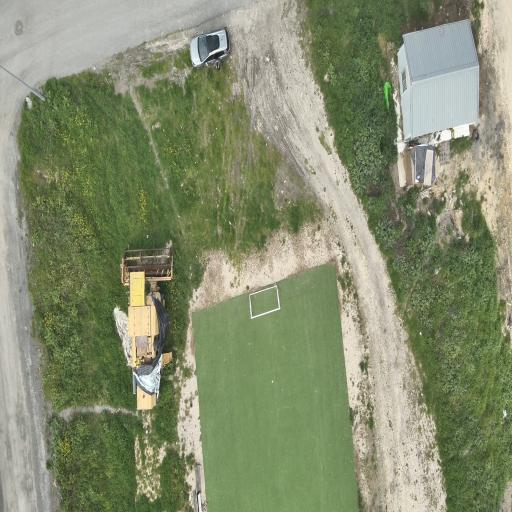car: (191, 28, 230, 68)
harvester: (122, 247, 172, 409)
